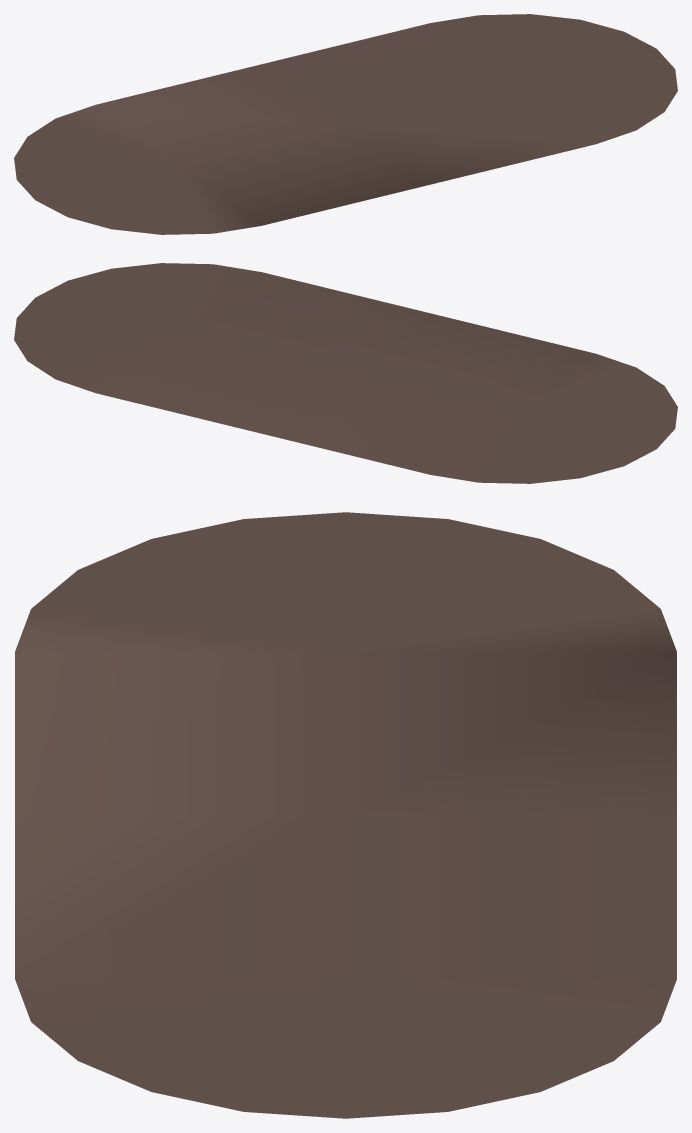
File: TableC1_dirt_geo.fbx
The picture shows the model from 3 angles, top to bottom: view 1: azimuth 30°, elevation 25°; view 2: azimuth 150°, elevation 25°; view 3: azimuth 270°, elevation 25°; orthographic projection. The views are drawn at different scales.
Visible parts, largest first — view 1: TableC1_dirt_geo; view 2: TableC1_dirt_geo; view 3: TableC1_dirt_geo.
Part boxes in pixels (box(x1,y1,x2,y2)): TableC1_dirt_geo: box(14, 14, 677, 234); TableC1_dirt_geo: box(14, 263, 677, 483); TableC1_dirt_geo: box(15, 512, 676, 1118).
Bounding box in the file's own units: 2.89 × 1.33 × 0.
